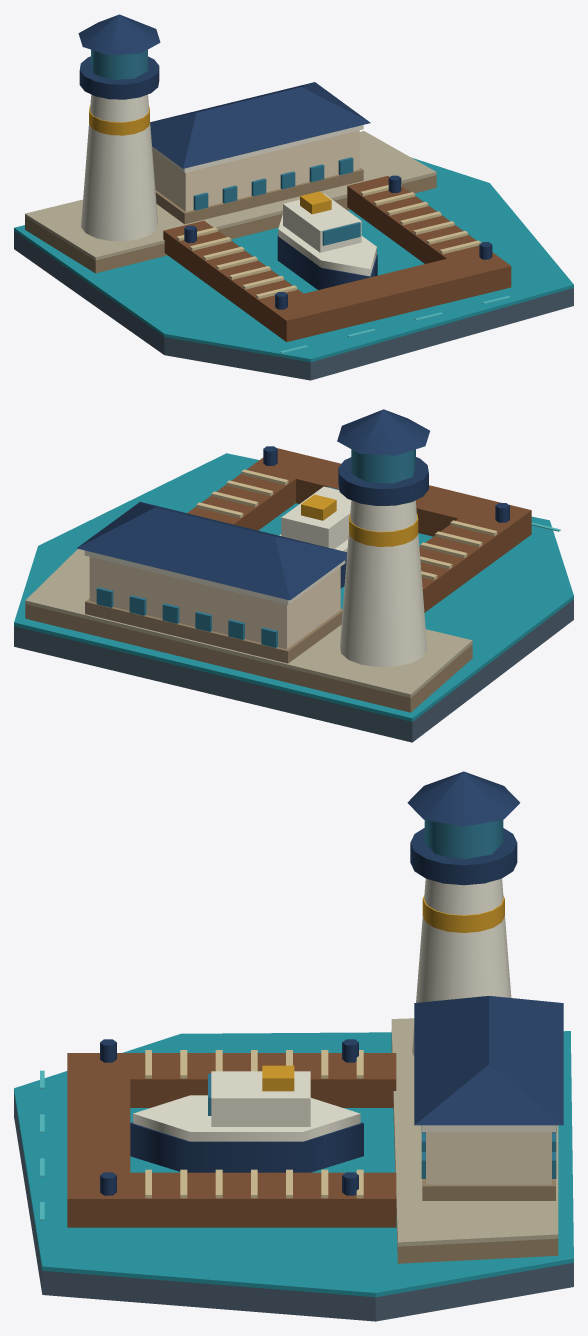
Rendered from port-lv1.glb.
The picture shows the model from 3 angles, top to bottom: view 1: azimuth 30°, elevation 25°; view 2: azimuth 150°, elevation 25°; view 3: azimuth 270°, elevation 25°; orthographic projection. The views are drawn at different scales.
Visible parts, largest first — view 1: foundation_water, pier_wood, foundation_slate, warehouse_roof_naval, lighthouse_white, quay_paving, warehouse_cream, vessel_white, quay_stoneDark, pier_planks_sand, warehouse_stoneDark, lighthouse_roof_naval (+9 smaller); view 2: foundation_water, warehouse_roof_naval, pier_wood, foundation_slate, lighthouse_white, warehouse_cream, quay_paving, quay_stoneDark, warehouse_stoneDark, lighthouse_roof_naval, vessel_white, lantern_balcony_naval (+7 smaller); view 3: foundation_water, pier_wood, warehouse_roof_naval, foundation_slate, quay_paving, vessel_white, lighthouse_white, vessel_naval, warehouse_cream, lighthouse_roof_naval, lantern_balcony_naval, quay_stoneDark (+7 smaller).
Boxes of the visible parts, left/top/right/bottom form: foundation_water: left=14, top=157, right=573, bottom=362; pier_wood: left=163, top=176, right=511, bottom=342; foundation_slate: left=14, top=231, right=573, bottom=380; warehouse_roof_naval: left=150, top=82, right=370, bottom=168; lighthouse_white: left=81, top=94, right=157, bottom=241; quay_paving: left=25, top=131, right=436, bottom=260; warehouse_cream: left=152, top=130, right=359, bottom=211; vessel_white: left=278, top=193, right=376, bottom=276; quay_stoneDark: left=25, top=175, right=436, bottom=273; pier_planks_sand: left=176, top=184, right=481, bottom=299; warehouse_stoneDark: left=155, top=167, right=363, bottom=224; lighthouse_roof_naval: left=78, top=14, right=160, bottom=55; foundation_water: left=14, top=453, right=573, bottom=721; warehouse_roof_naval: left=76, top=502, right=347, bottom=600; pier_wood: left=187, top=448, right=531, bottom=612; foundation_slate: left=14, top=599, right=573, bottom=742; lighthouse_white: left=340, top=500, right=427, bottom=666; warehouse_cream: left=89, top=557, right=340, bottom=649; quay_paving: left=25, top=549, right=472, bottom=697; quay_stoneDark: left=25, top=604, right=472, bottom=712; warehouse_stoneDark: left=85, top=598, right=342, bottom=663; lighthouse_roof_naval: left=337, top=409, right=429, bottom=455; vessel_white: left=279, top=486, right=351, bottom=551; lantern_balcony_naval: left=338, top=457, right=428, bottom=505; foundation_water: left=14, top=1031, right=573, bottom=1297; pier_wood: left=67, top=1053, right=396, bottom=1227; warehouse_roof_naval: left=414, top=996, right=563, bottom=1125; foundation_slate: left=14, top=1094, right=573, bottom=1321; quay_paving: left=391, top=1018, right=558, bottom=1246; vessel_white: left=133, top=1071, right=360, bottom=1141; lighthouse_white: left=412, top=878, right=511, bottom=1056; vessel_naval: left=130, top=1122, right=363, bottom=1172; warehouse_cream: left=426, top=1132, right=551, bottom=1184; lighthouse_roof_naval: left=407, top=771, right=520, bottom=826; lantern_balcony_naval: left=410, top=828, right=517, bottom=885; quay_stoneDark: left=391, top=1034, right=558, bottom=1263.
Size of the model in its own units: 1 by 0.5888 by 0.9036.
